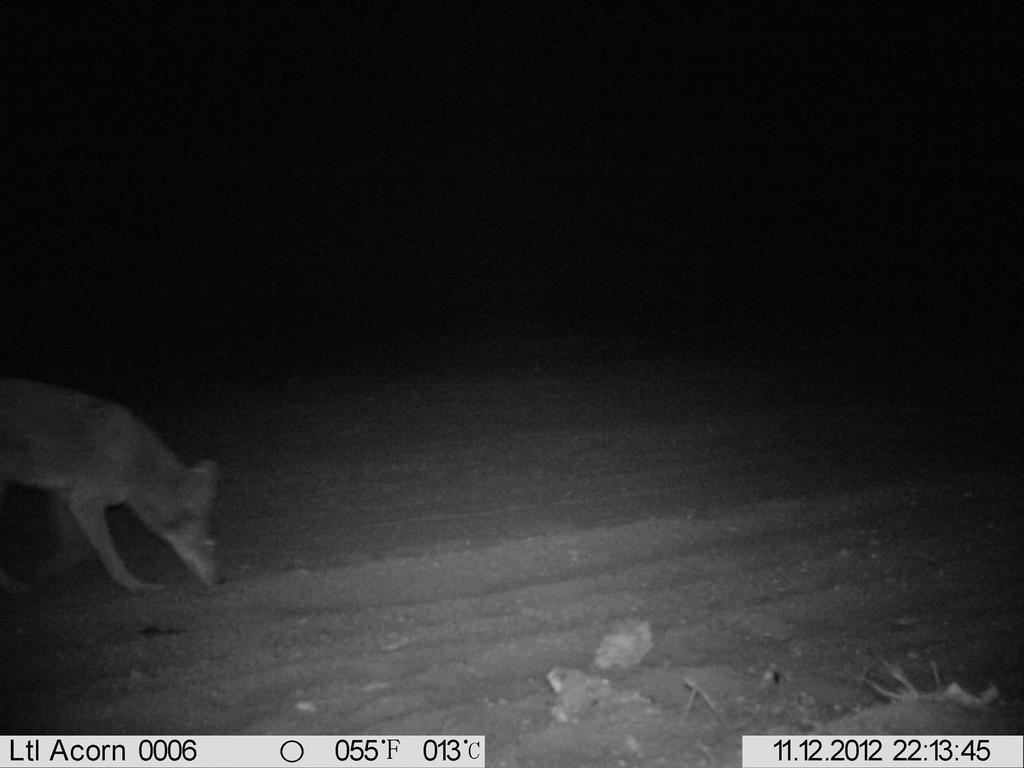coyote: (11, 359, 249, 597)
